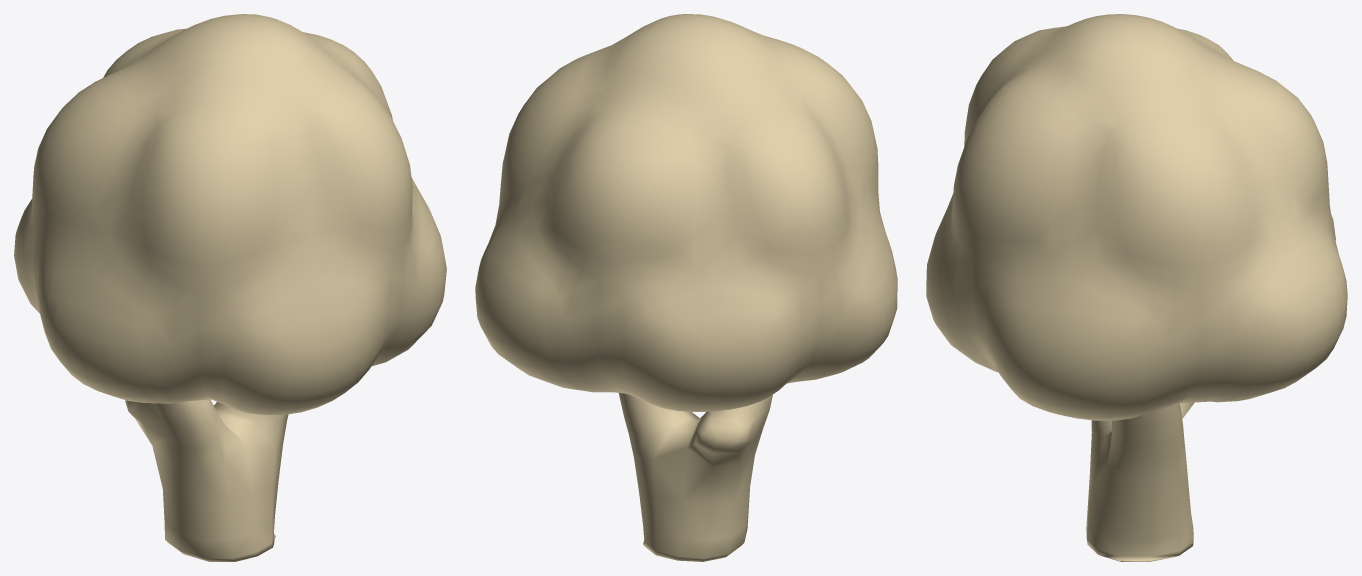
The model's file is Cauliflower_03.dae.
The picture shows the model from 3 angles, left to right: view 1: azimuth 30°, elevation 25°; view 2: azimuth 150°, elevation 25°; view 3: azimuth 270°, elevation 25°; orthographic projection. The views are drawn at different scales.
Parts seen in each view (by area): view 1: Cauliflower_03_LOD0; view 2: Cauliflower_03_LOD0; view 3: Cauliflower_03_LOD0.
Part boxes in pixels (bbox=[...]): Cauliflower_03_LOD0: bbox=[14, 14, 446, 561]; Cauliflower_03_LOD0: bbox=[475, 14, 897, 561]; Cauliflower_03_LOD0: bbox=[926, 14, 1347, 561].
Size of what is drawn, in the model's own units: 4.5 by 4.43 by 6.04.
